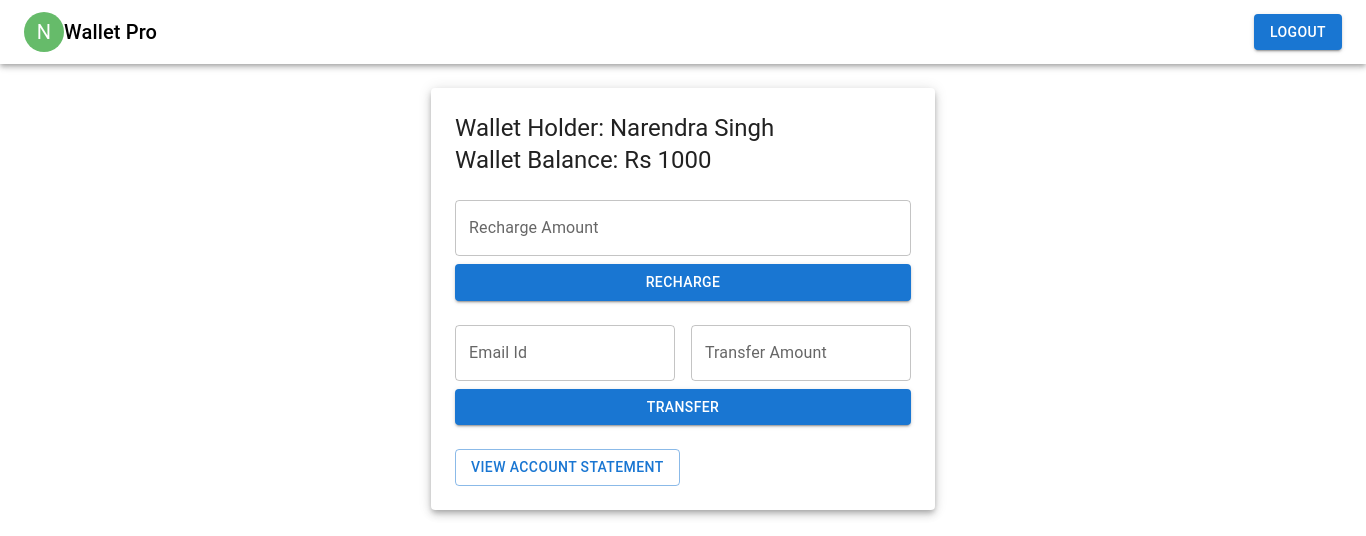
Wallet Component › handles wallet transfer correctly
Type "test@example.com" into the field labelled "Email Id".
click(565, 352); type("test@example.com")  # box [455,324,675,380]
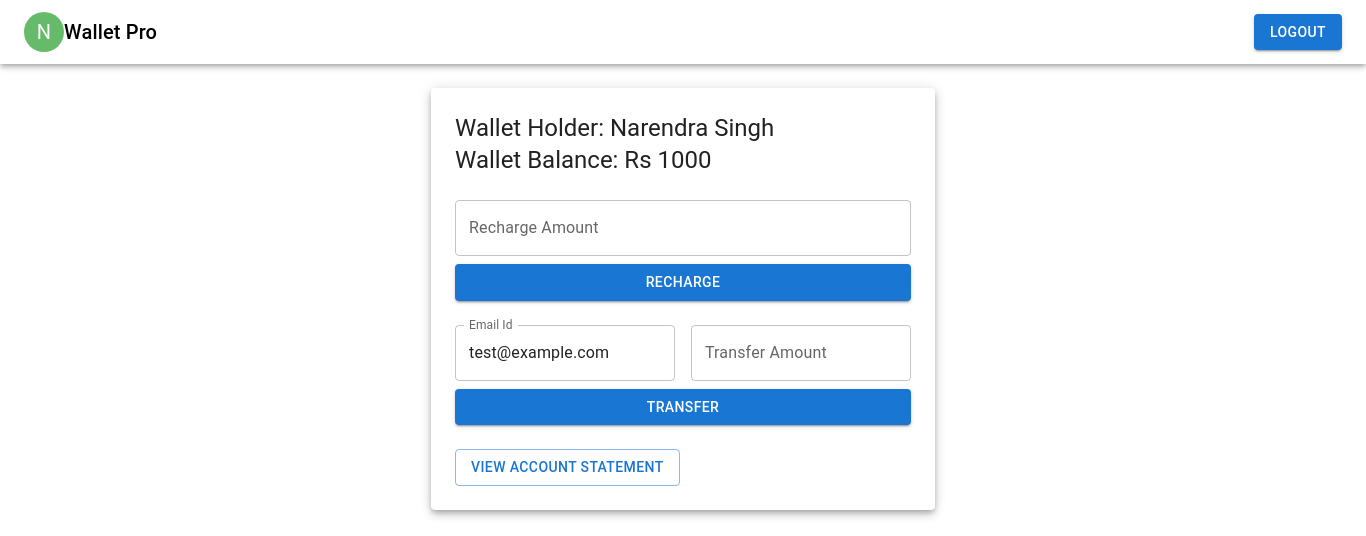
Type "200" into the number field labelled "Transfer Amount".
click(801, 352); type("200")  # box [691,324,911,380]
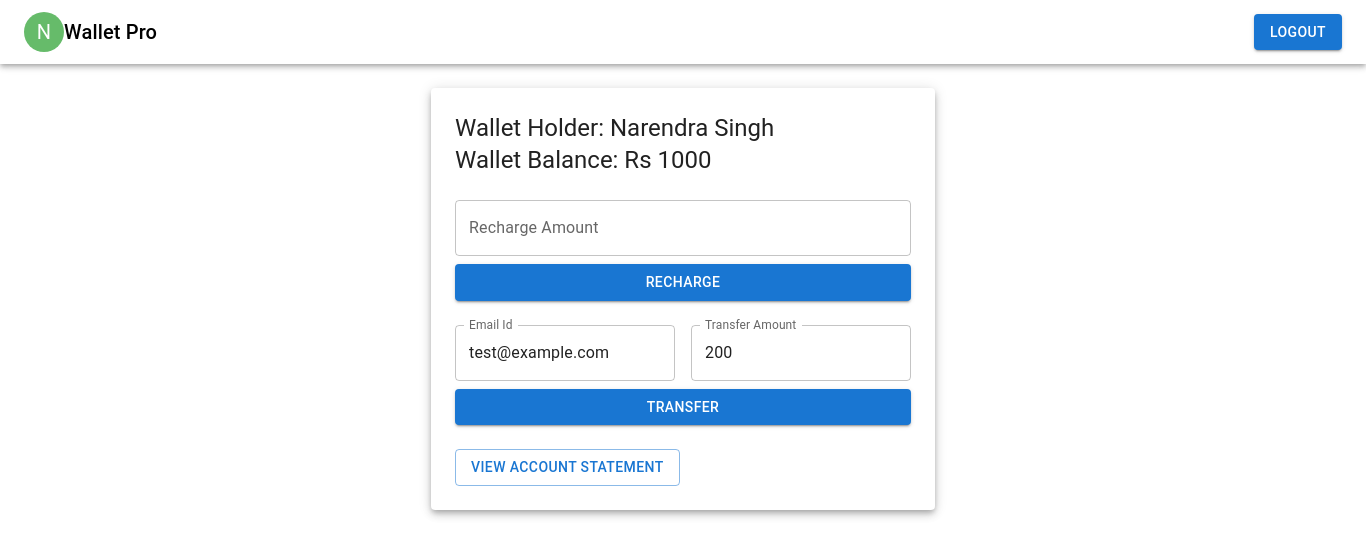
Click the button "Transfer".
click(683, 407)  # box [455,388,911,425]
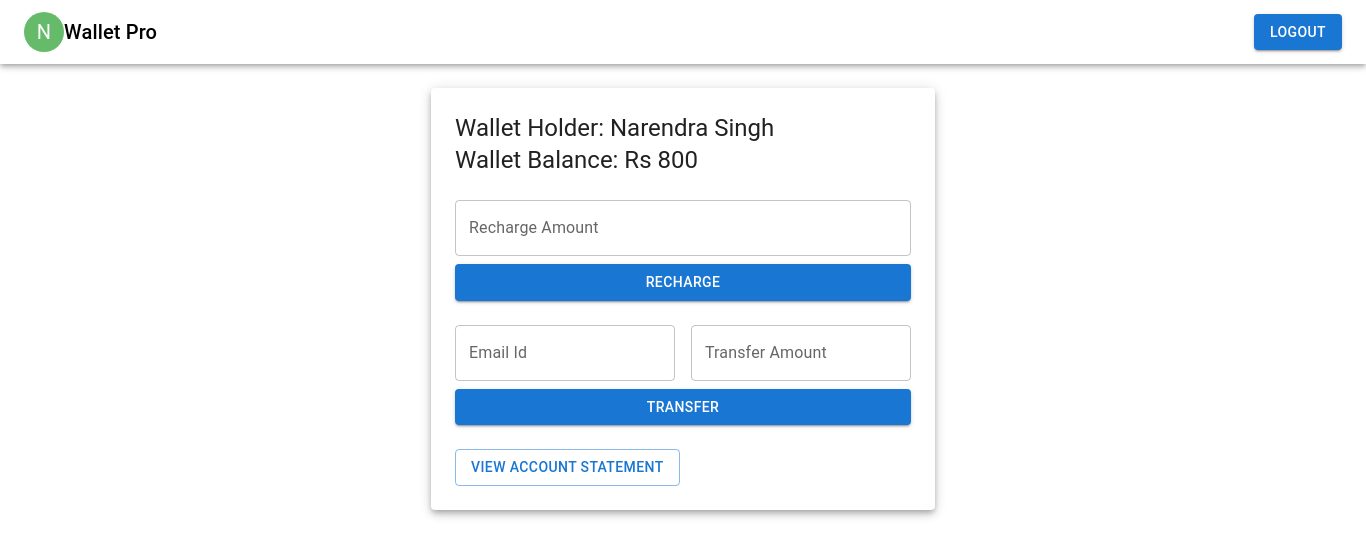
Expected: the heading "Wallet Balance: Rs 800" is shown, [455,146,698,174]
Expected: the field labelled "Email Id" is empty, [455,324,675,380]
Expected: the number field labelled "Transfer Amount" is not empty, [691,324,911,380]
